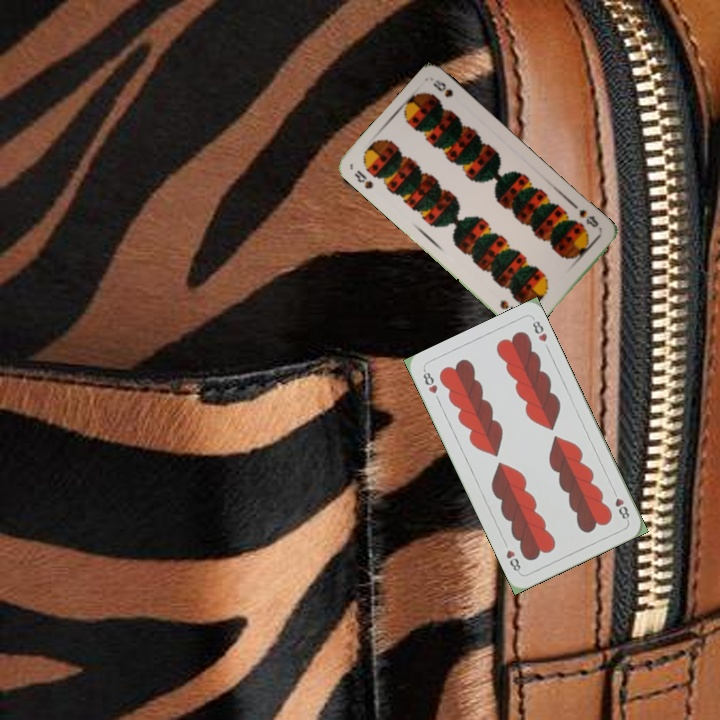H8: (608, 485, 632, 524), (419, 366, 440, 396)
S8: (575, 205, 601, 230), (350, 166, 376, 191)
